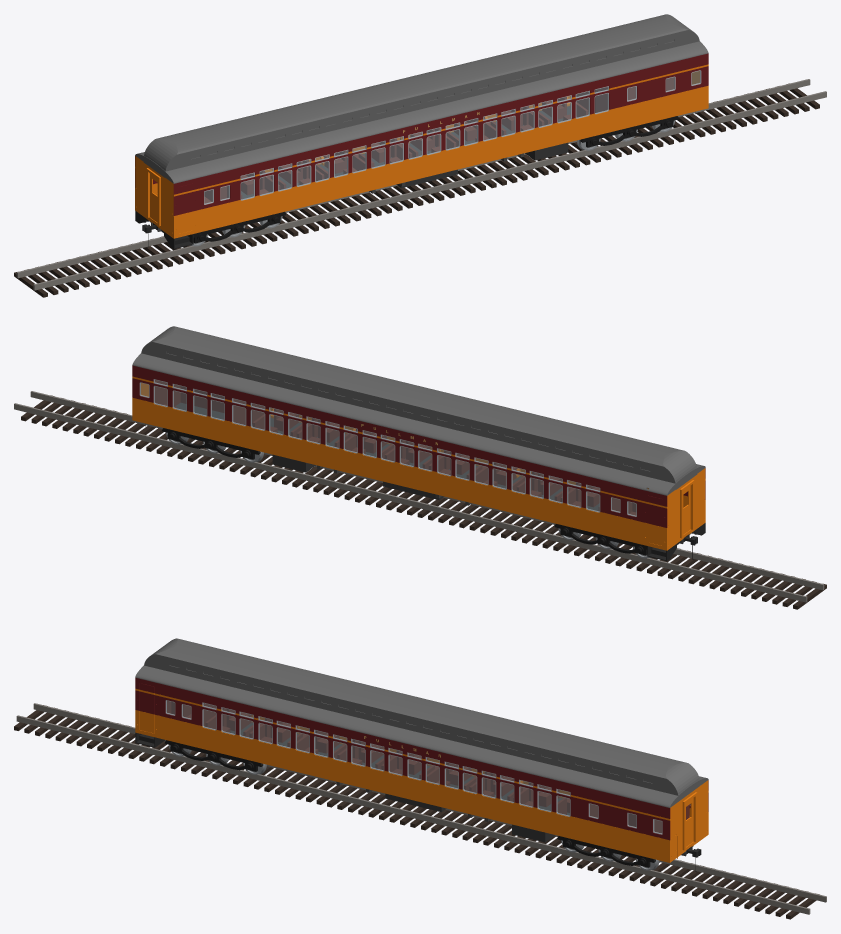
File: MR1927_Sleeper1011_G.glb
The picture shows the model from 3 angles, top to bottom: view 1: azimuth 30°, elevation 25°; view 2: azimuth 150°, elevation 25°; view 3: azimuth 330°, elevation 25°; orthographic projection.
Visible parts, largest first — view 1: roof, orange, ties, maroon, rails, glass, interior, rims, trucks, equipment, floor; view 2: roof, orange, ties, maroon, rails, glass, interior, rims, trucks, floor, equipment; view 3: roof, orange, ties, maroon, rails, glass, interior, rims, trucks, equipment, floor, wheels.
Part boxes in pixels (left/top/right/bottom): roof: left=135, top=14, right=708, bottom=183; orange: left=135, top=64, right=708, bottom=238; ties: left=14, top=83, right=819, bottom=297; maroon: left=135, top=53, right=708, bottom=215; rails: left=16, top=79, right=826, bottom=290; glass: left=204, top=71, right=700, bottom=203; interior: left=204, top=77, right=674, bottom=203; rims: left=204, top=70, right=701, bottom=204; trucks: left=193, top=116, right=678, bottom=243; equipment: left=396, top=142, right=568, bottom=188; floor: left=150, top=104, right=588, bottom=231; roof: left=132, top=326, right=705, bottom=495; orange: left=132, top=376, right=705, bottom=550; ties: left=21, top=395, right=826, bottom=609; maroon: left=132, top=365, right=705, bottom=527; rails: left=14, top=391, right=824, bottom=602; glass: left=140, top=380, right=636, bottom=515; interior: left=155, top=380, right=636, bottom=515; rims: left=139, top=379, right=636, bottom=516; trucks: left=162, top=428, right=647, bottom=555; floor: left=175, top=403, right=690, bottom=543; equipment: left=272, top=454, right=444, bottom=500; roof: left=135, top=638, right=708, bottom=807; orange: left=135, top=688, right=708, bottom=862; ties: left=14, top=705, right=819, bottom=919; maroon: left=135, top=677, right=708, bottom=840; rails: left=16, top=703, right=826, bottom=914; glass: left=166, top=701, right=690, bottom=833; interior: left=167, top=701, right=689, bottom=833; rims: left=165, top=700, right=662, bottom=834; trucks: left=165, top=740, right=655, bottom=867; equipment: left=385, top=793, right=555, bottom=842; floor: left=230, top=722, right=693, bottom=856; wheels: left=168, top=744, right=659, bottom=870.
Bounding box in the file's own units: 1.23 × 0.1609 × 0.1045.
